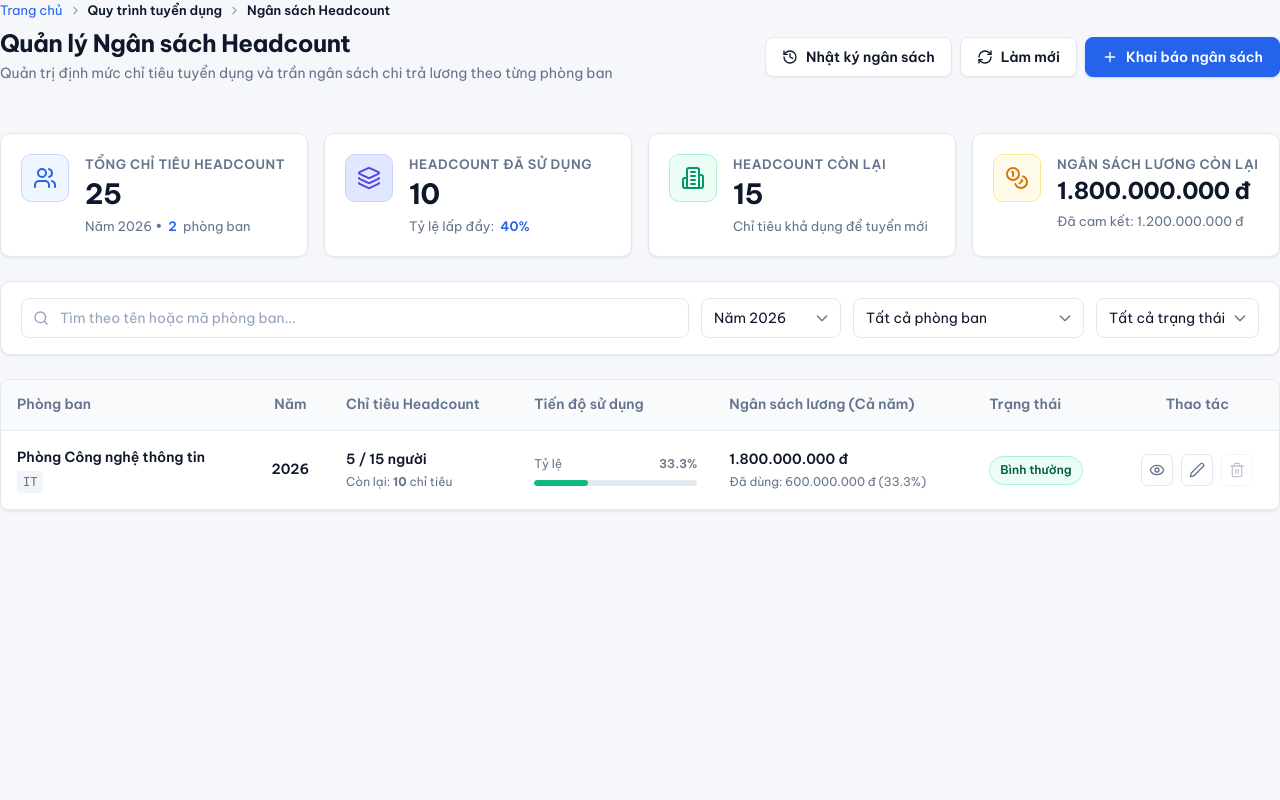
Scenario: HeadcountBudgetPage (S3-04) › opens Audit Logs modal and displays audit records
Check: the button "Nhật ký ngân sách" is shown, box x1=806 y1=50 x2=935 y2=64
Step 1. Click the button "Nhật ký ngân sách" → (858, 57), box x1=765 y1=37 x2=952 y2=77
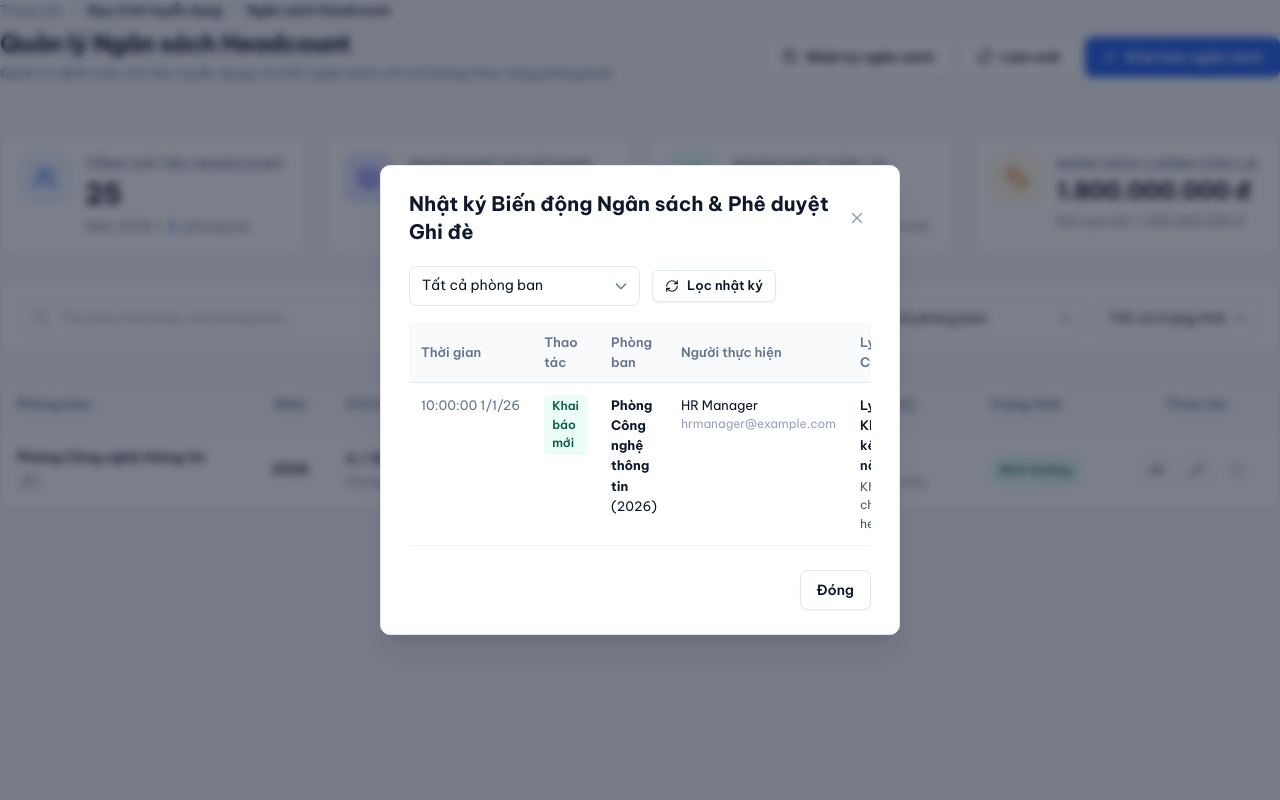
Check: the heading "Nhật ký Biến động Ngân sách & Phê duyệt Ghi đè" is shown, box x1=409 y1=190 x2=843 y2=246
Check: the text "Khai báo mới" is shown, box x1=544 y1=395 x2=587 y2=455
